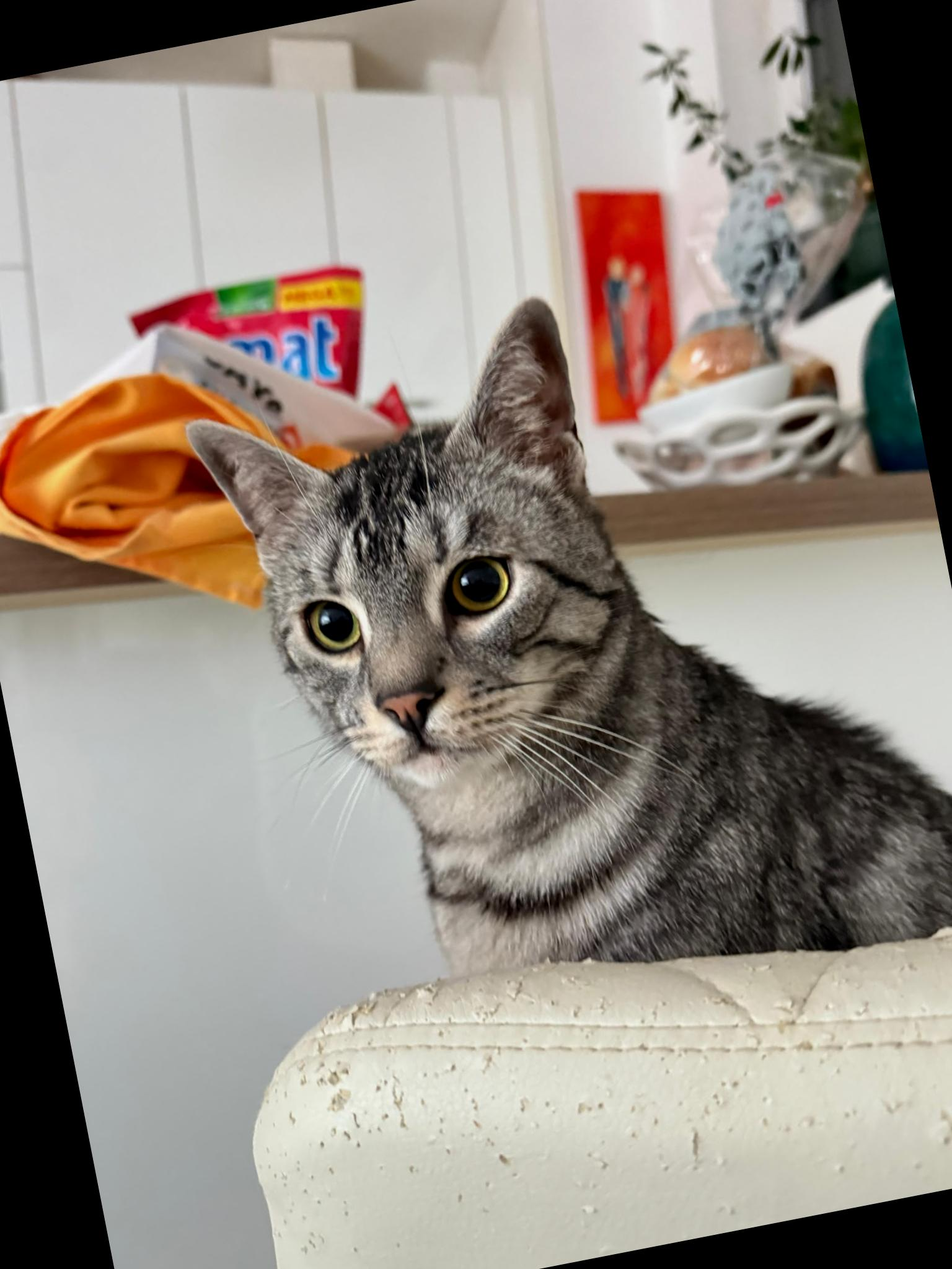macka: (169, 231, 952, 1069)
